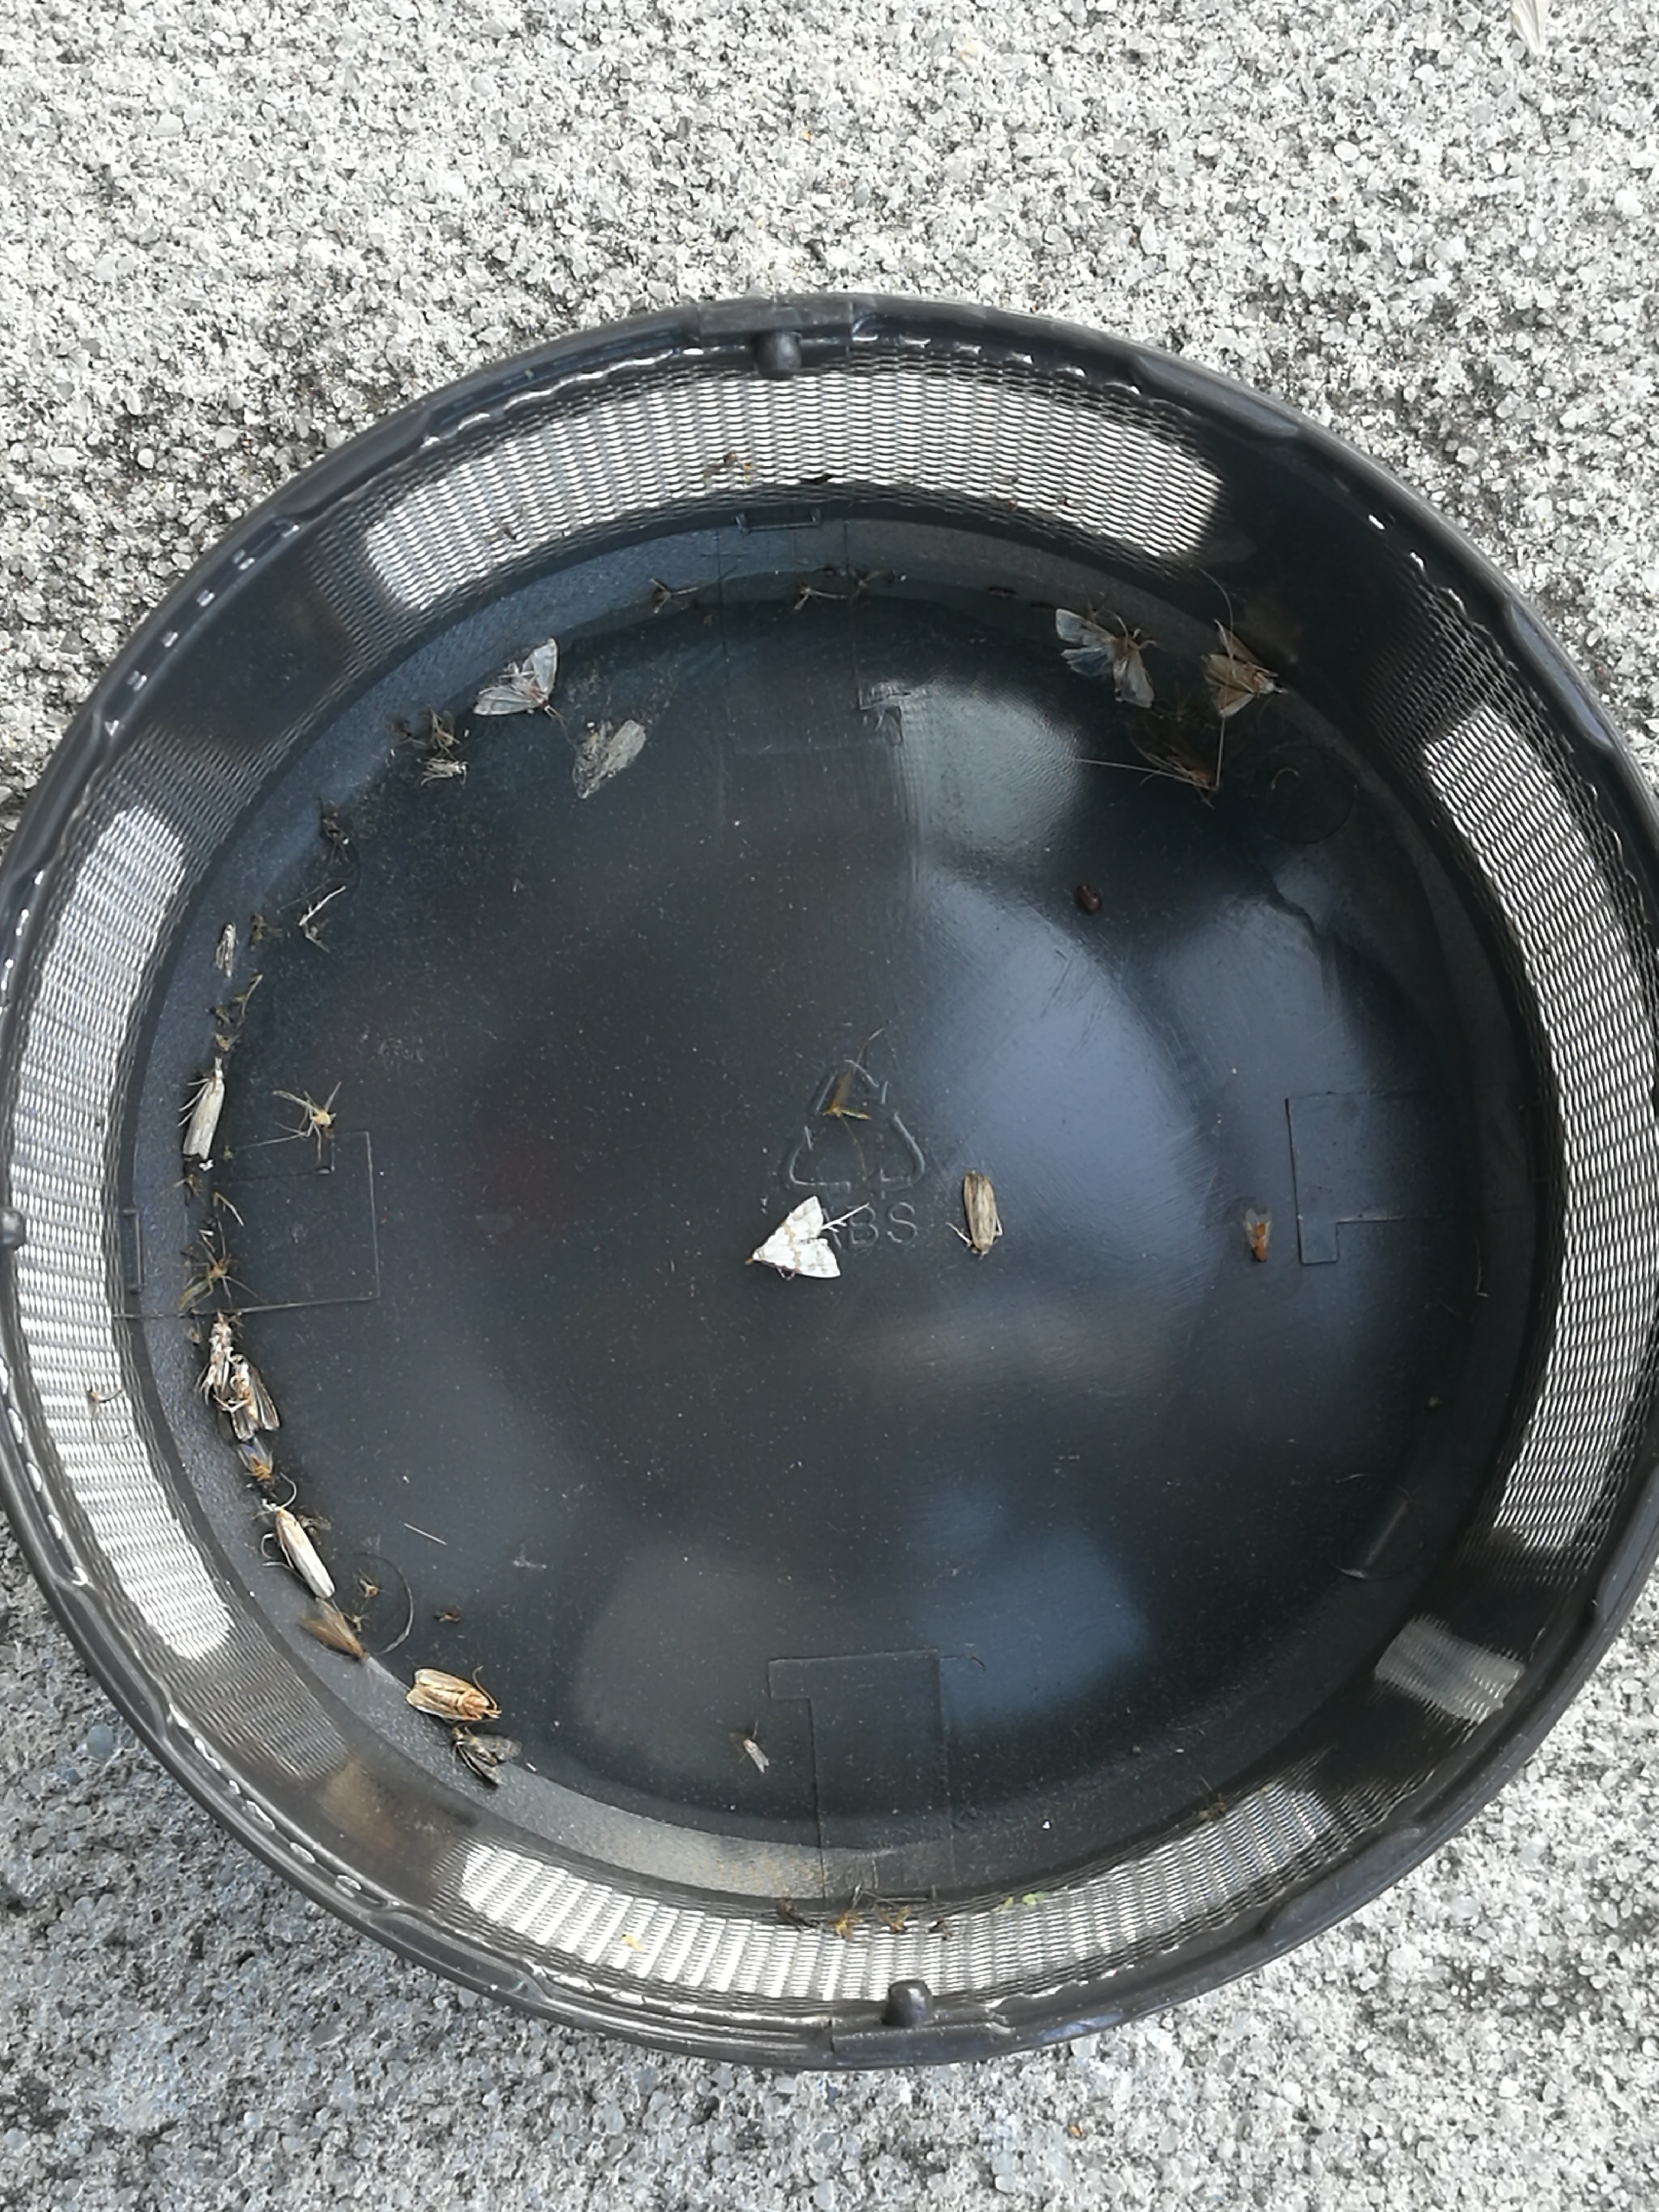mosquito: (1124, 714, 1215, 791), (275, 1505, 331, 1597), (183, 1061, 225, 1158), (960, 1169, 997, 1252), (202, 1313, 230, 1397)
moth: (1058, 610, 1154, 705), (753, 1197, 840, 1278), (1206, 624, 1276, 718), (474, 637, 554, 714), (228, 1355, 282, 1440), (408, 1669, 493, 1721), (453, 1730, 519, 1785)
